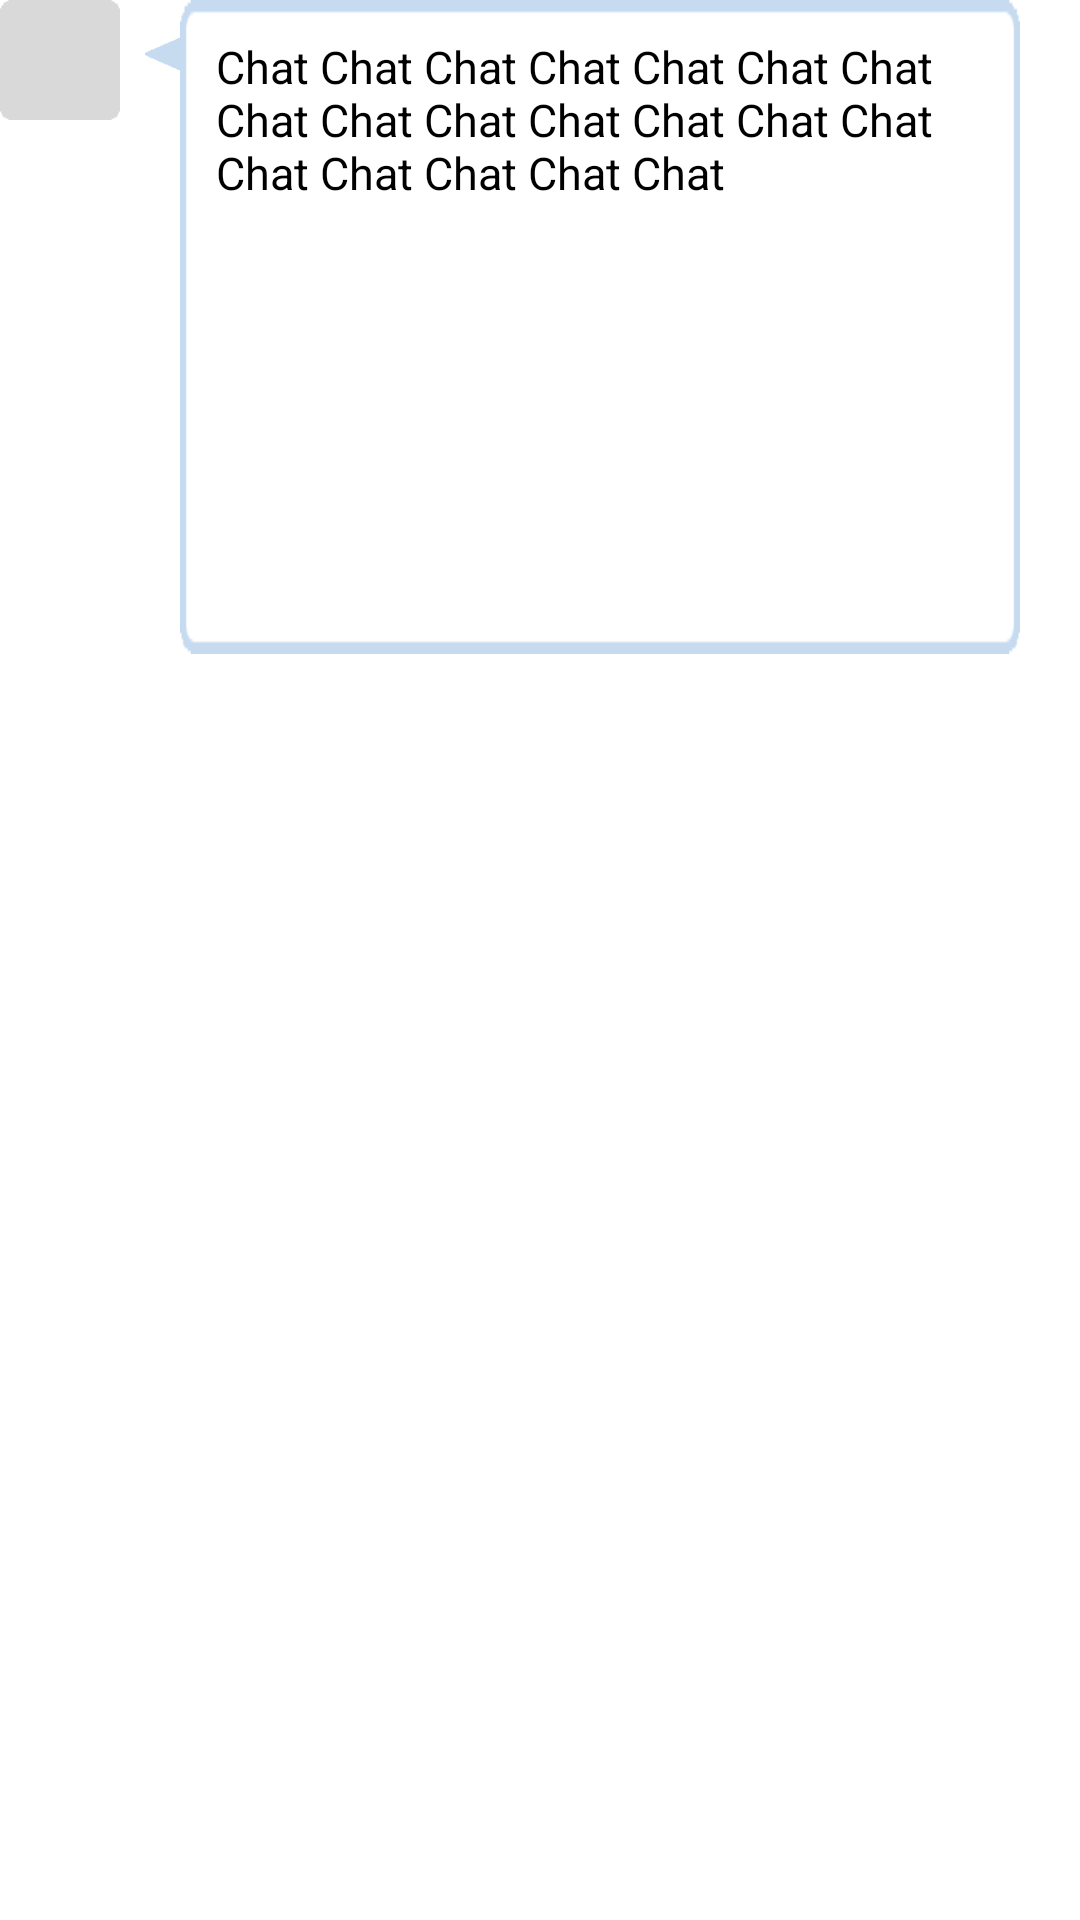

Icons on this 1080 × 1920 Android screen, each with its box as (x1, y1, x2, y2):
chat arrow: (145, 38, 180, 70)
